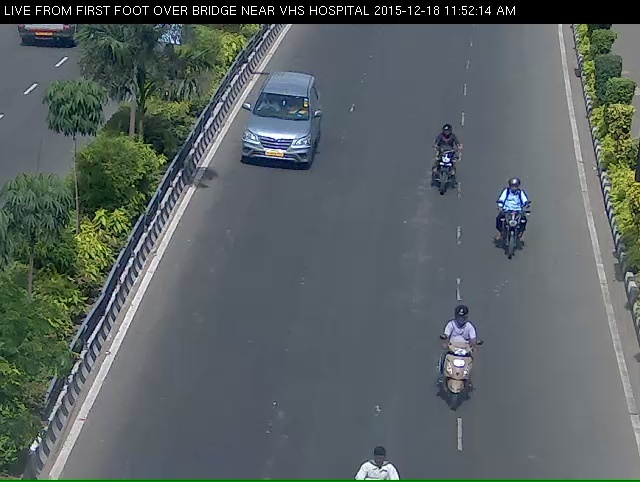Car: (237, 75, 317, 190)
Person: (443, 323, 484, 446), (496, 189, 537, 278), (421, 130, 466, 211)
